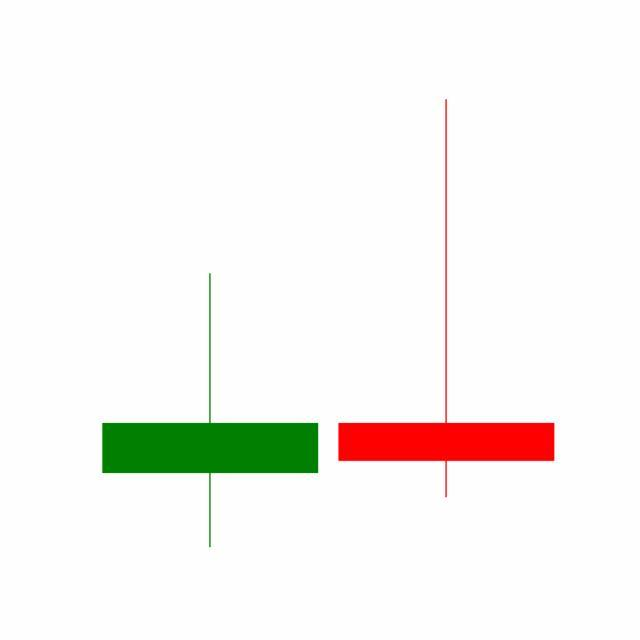Gravestone Doji: (328, 96, 566, 503)
